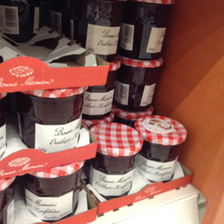jam: (17, 87, 84, 152), (88, 122, 145, 198), (134, 114, 188, 184), (24, 162, 84, 224), (70, 1, 121, 63), (122, 1, 174, 59), (115, 55, 163, 111)
